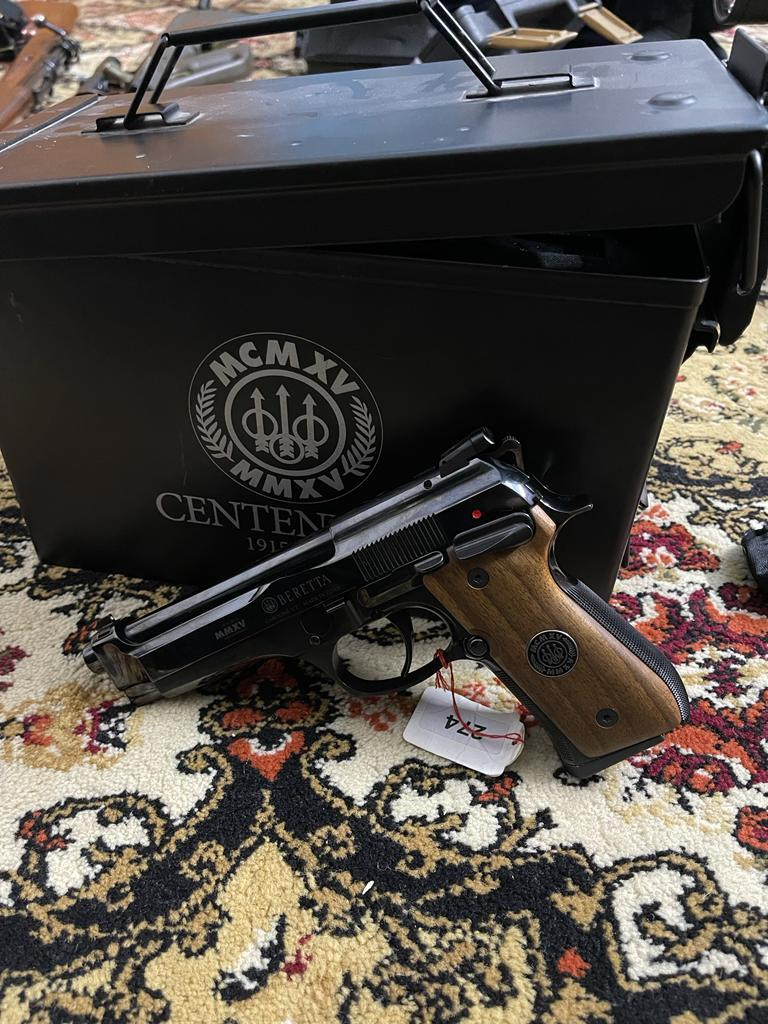weapon: (86, 434, 692, 771)
